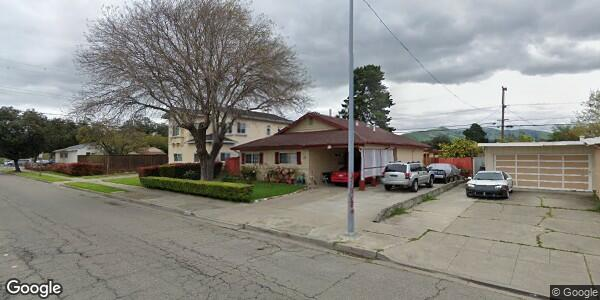Steel_Pole: (342, 1, 362, 237)
